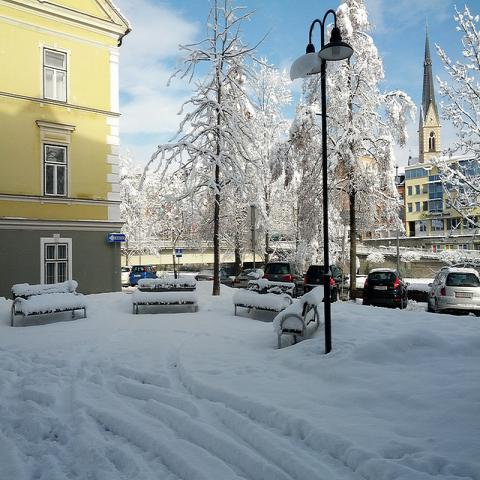car: (430, 264, 479, 316), (361, 267, 408, 309), (304, 264, 348, 302), (195, 268, 234, 288), (262, 260, 294, 282), (130, 265, 159, 286), (234, 268, 264, 283), (121, 266, 132, 287)
